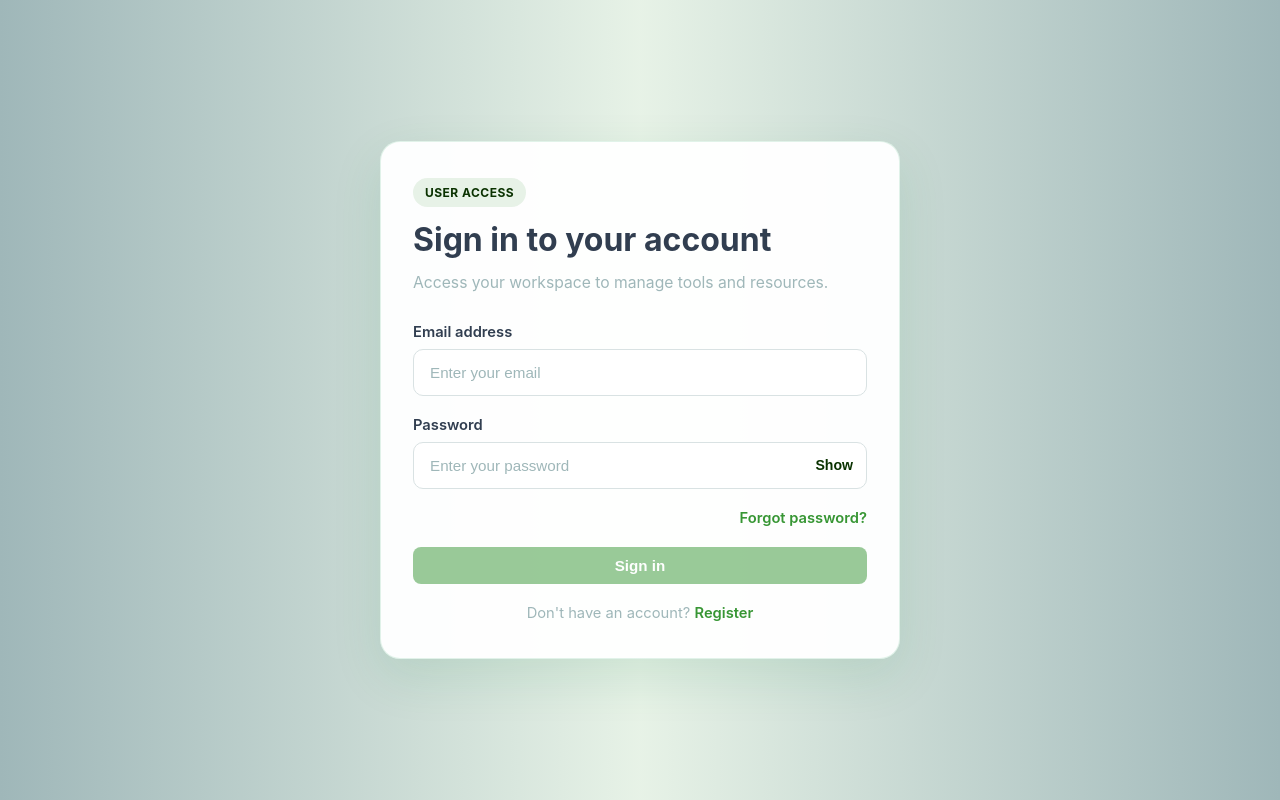
Test: LoginPage › shows verification resend message when unverified login fails
Type "unverified@test.com" into the field with placeholder "Enter your email" at coordinates (640, 372), box [413, 349, 867, 396]
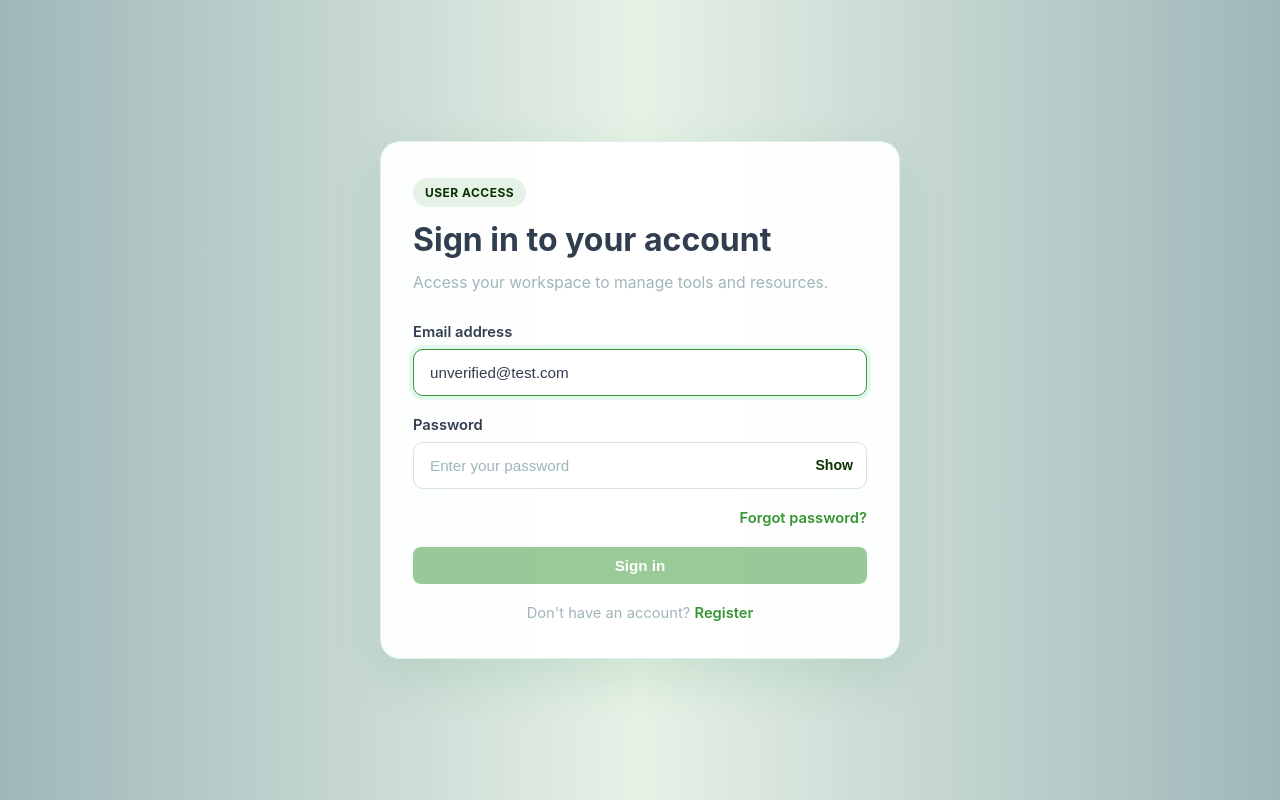
Type "Password123!" into the password field with placeholder "Enter your password" at coordinates (640, 465), box [413, 442, 867, 489]
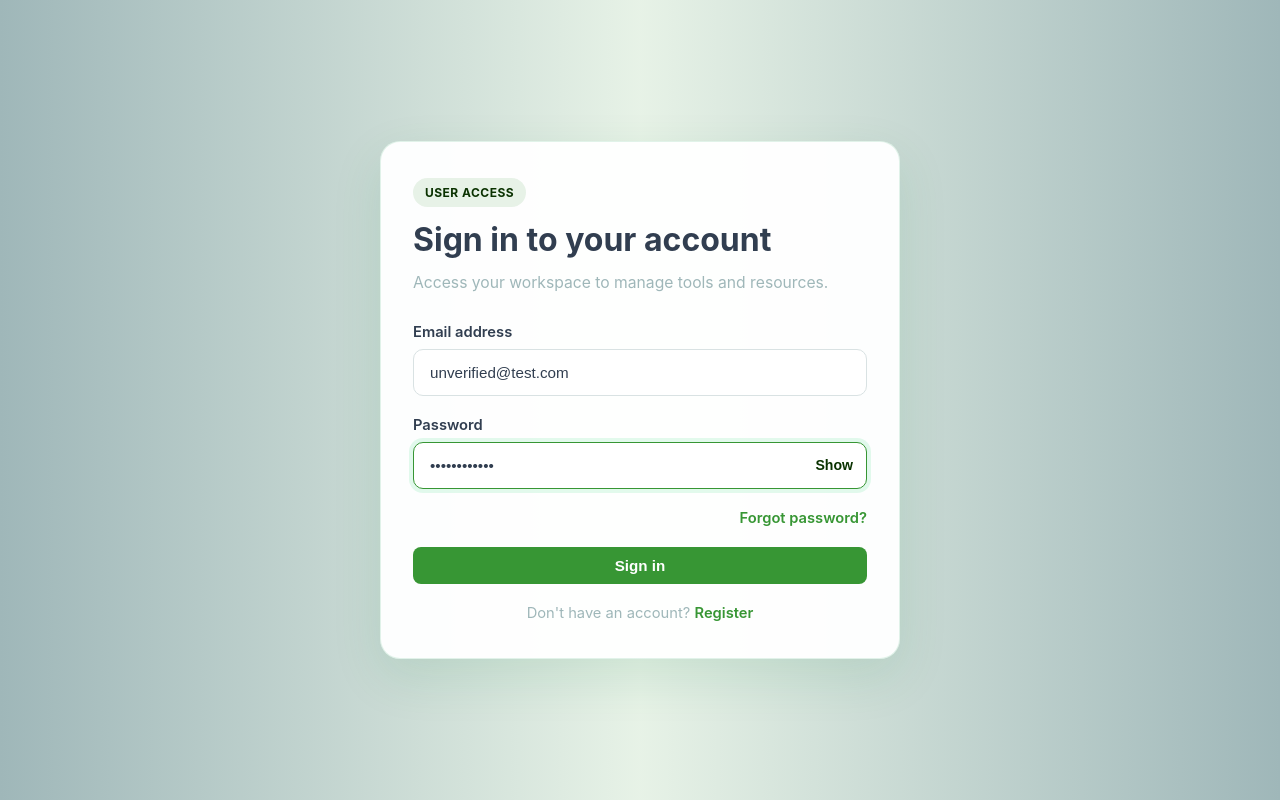
Click the button "Sign in" at coordinates (640, 565), box [413, 547, 867, 584]
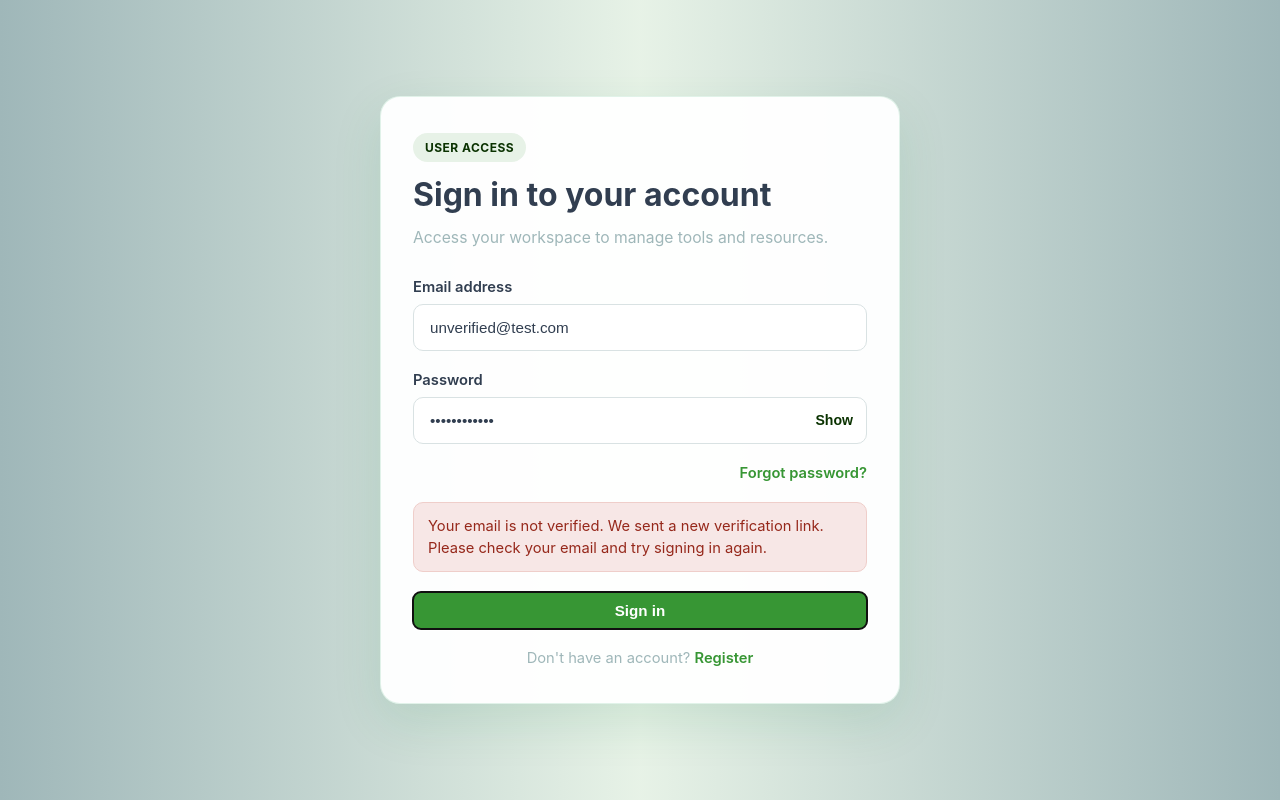
Check: the text "Your email is not verified. We sent a new verification link. Please check your email and try signing in again." is shown, box [428, 517, 824, 557]
